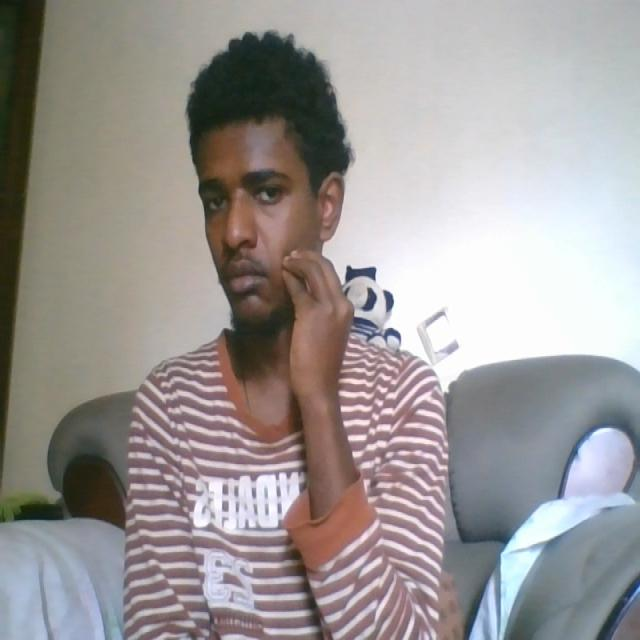bet: (245, 232, 358, 404)
